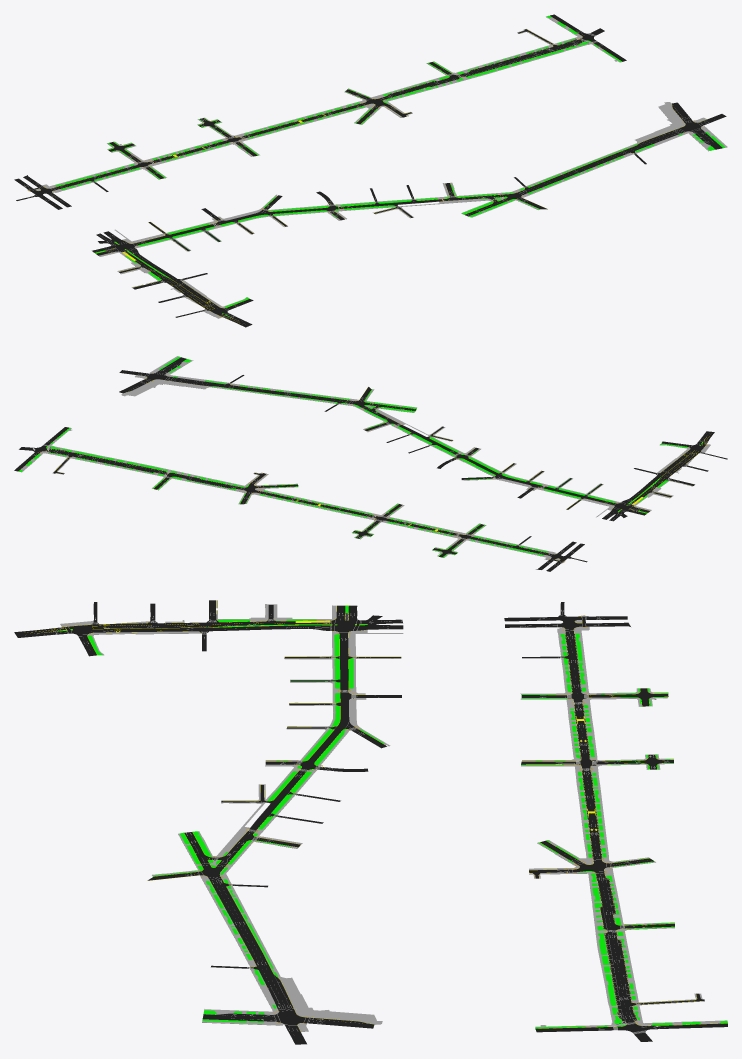
Rendered from modelo.glb.
3 views of the same model, one above another, from view 1: azimuth 30°, elevation 25°; view 2: azimuth 150°, elevation 25°; view 3: azimuth 270°, elevation 25° (orthographic). The views are drawn at different scales.
Visible parts, largest first — view 1: G-Object.001; view 2: G-Object.001; view 3: G-Object.001.
Boxes of the visible parts, x1,y1,x2,y2 form: G-Object.001: (14, 14, 727, 327); G-Object.001: (14, 356, 727, 571); G-Object.001: (14, 600, 727, 1044).
Bounding box in the file's own units: 0.1797 × 5.73e-05 × 0.122.
